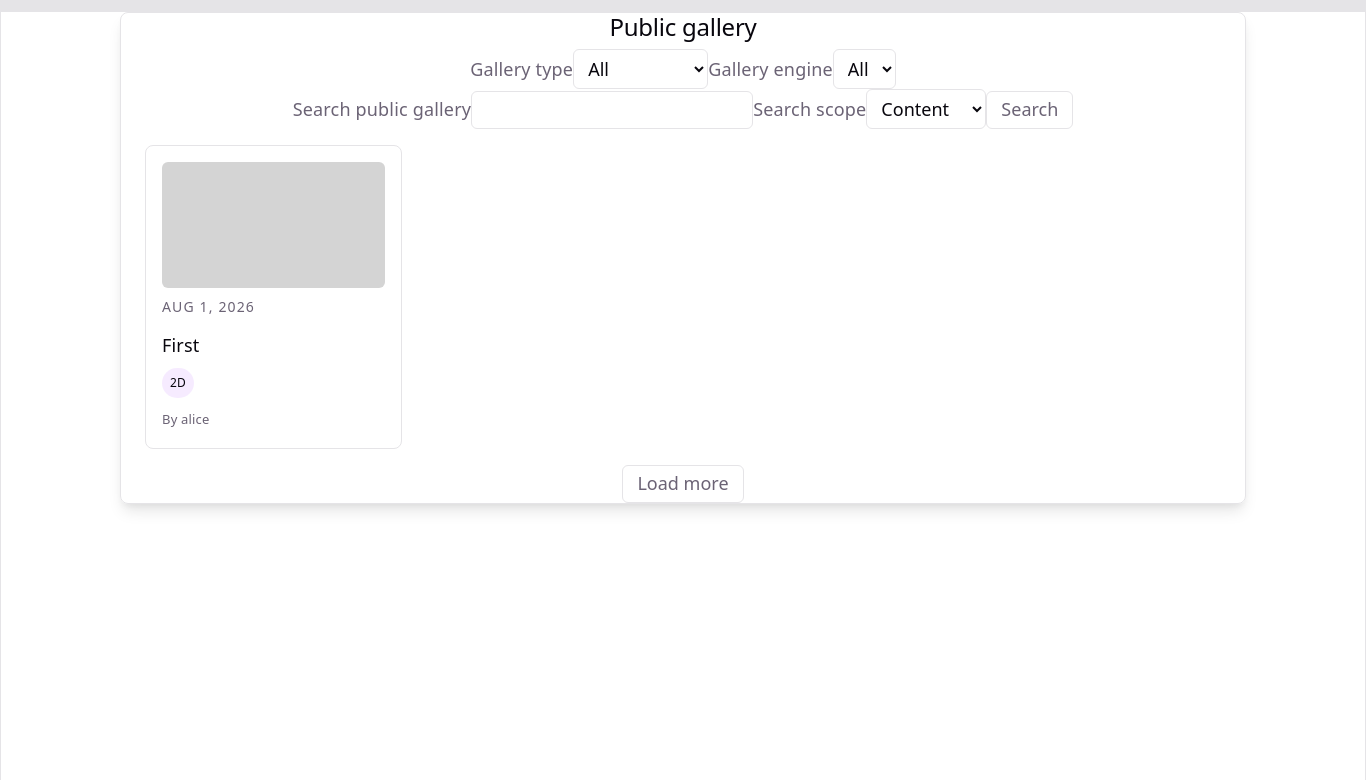
Test: PublicGallery pagination › shows an accessible error and keeps existing cards when loading more fails
The width and height of the screenshot is (1366, 780).
Check: the heading "First" is shown, box [162,333,200,357]
Click the button "Load more": coordinates (683, 484) [622,465,744,503]
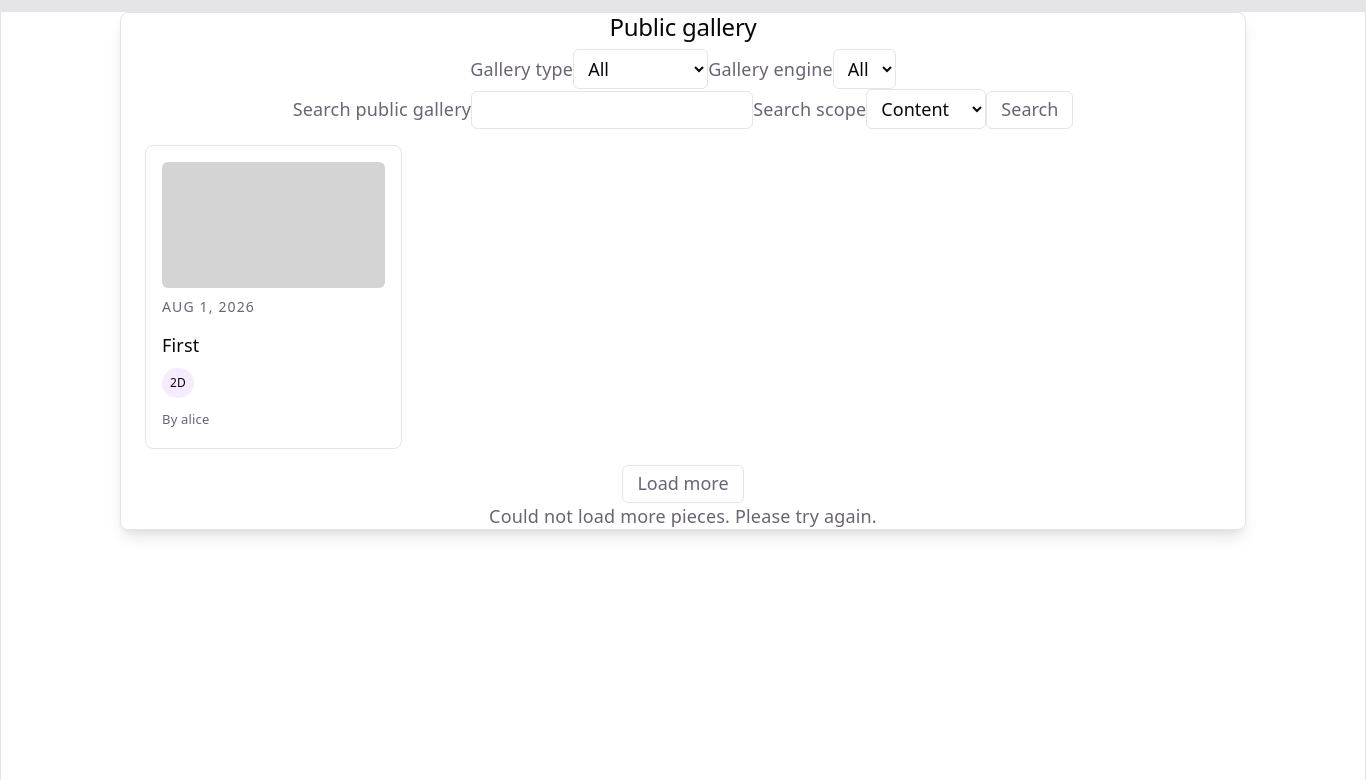
Check: the heading "First" is shown, box [162,333,200,357]
Check: the message shows "Could not load more", box [489,504,877,528]
